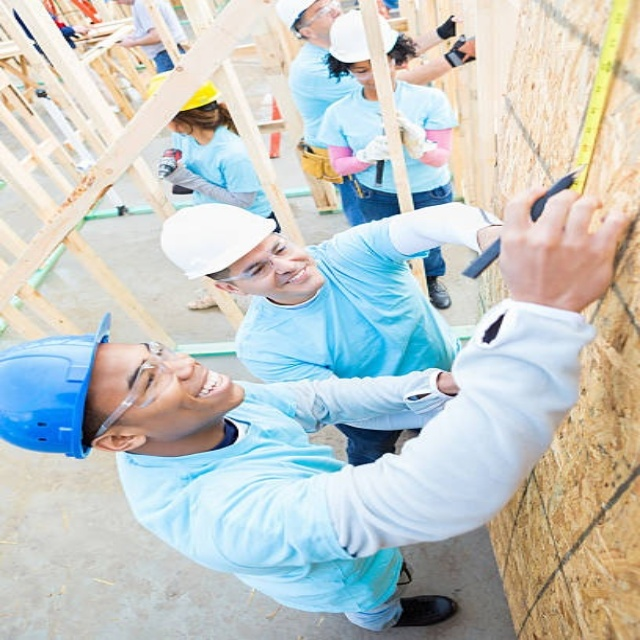Guantes: (355, 135, 392, 164), (443, 35, 474, 68), (410, 139, 439, 160), (436, 14, 459, 40)
Mascara: (96, 340, 173, 441), (215, 229, 290, 282)
Sin_guantes: (492, 179, 632, 311), (112, 34, 135, 48), (70, 25, 91, 37)
Sin_mascara: (179, 367, 232, 420), (278, 259, 317, 296)
